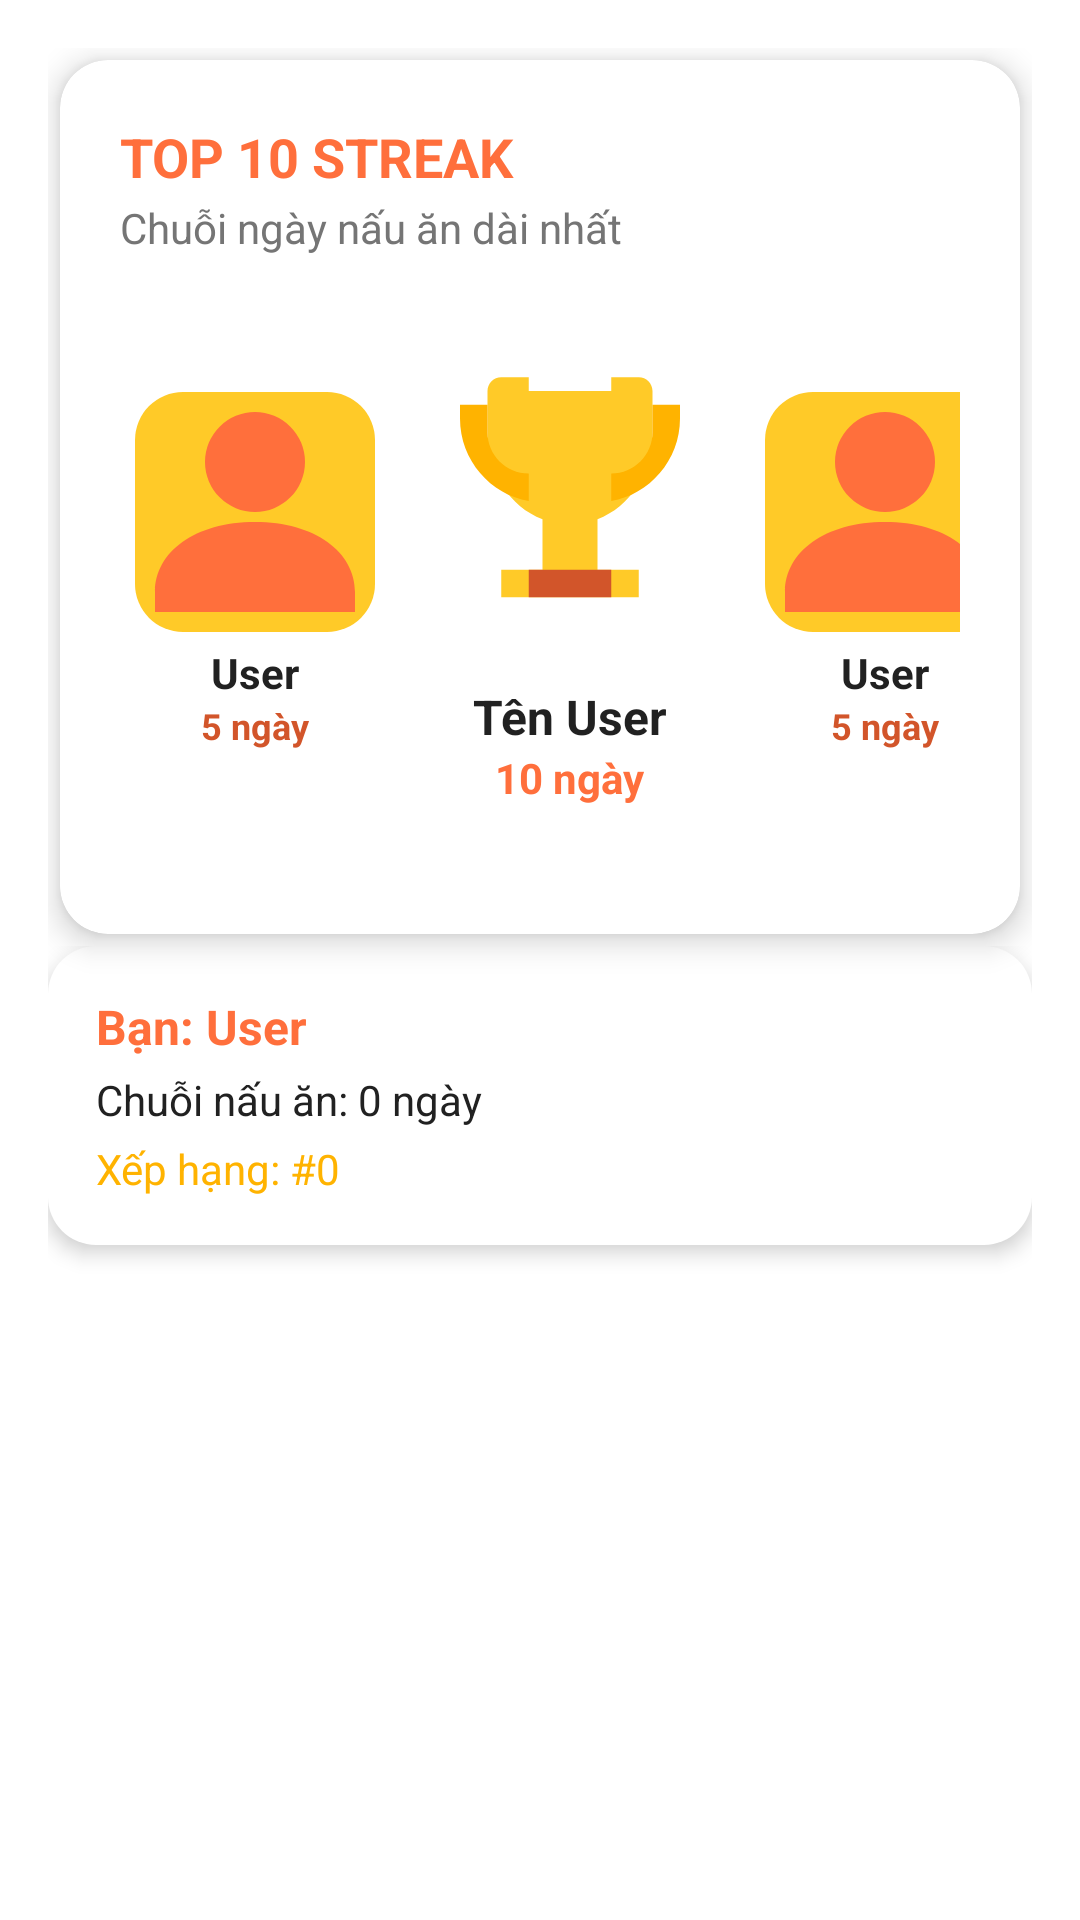

Named icons in this screenshot (1080px×1920px) and their centers, (x=x, y=y):
trophy: (x=570, y=487)
